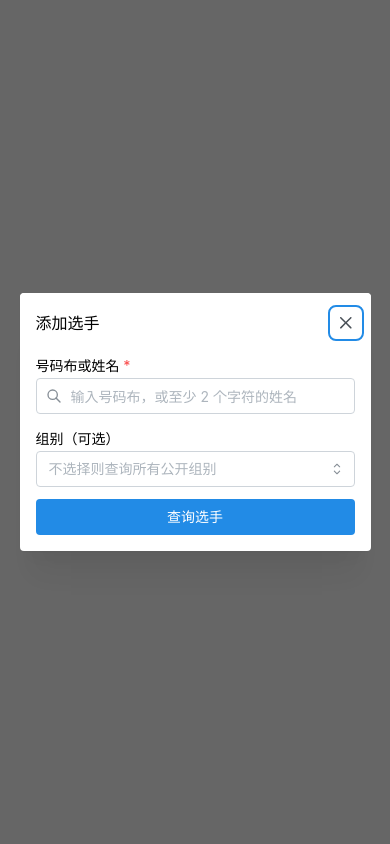
Scenario: add runner modal regression (mocked requests only) › resolves with group selection, confirms a nickname, and closes after success
Later steps or results of the test are not shown.
Click the field labelled "组别（可选）": point(195, 469) [36,451,354,487]
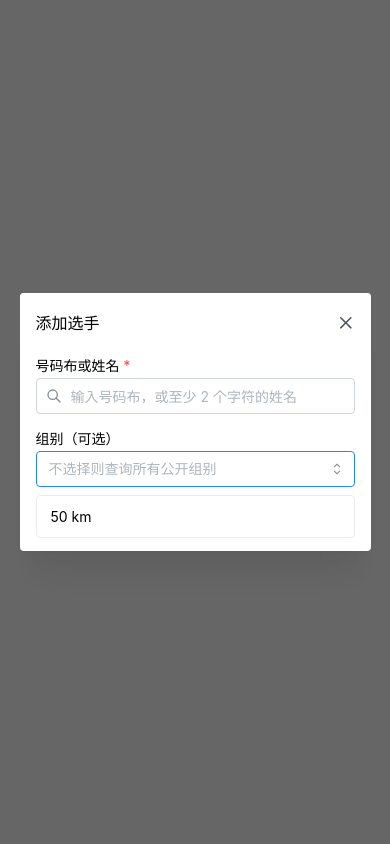
Click the option "50 km": point(71, 516) [50,508,92,525]
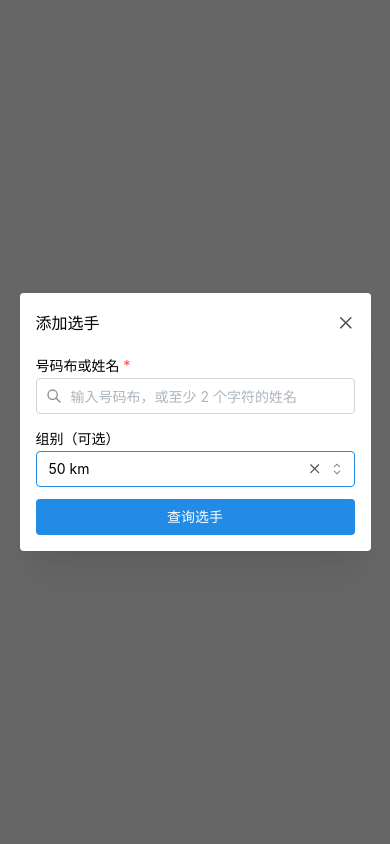
In the field labelled "号码布或姓名 *": point(195, 396) [36,378,354,414], type " 5832 "
Then press Enter
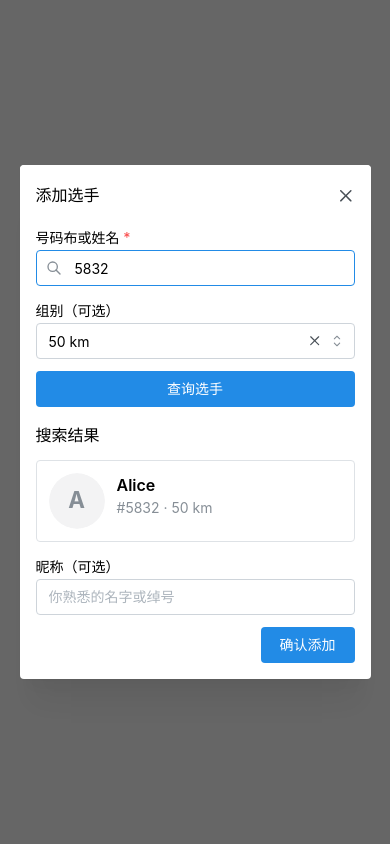
Expected: the text "Alice" is shown, [116,475,155,495]
